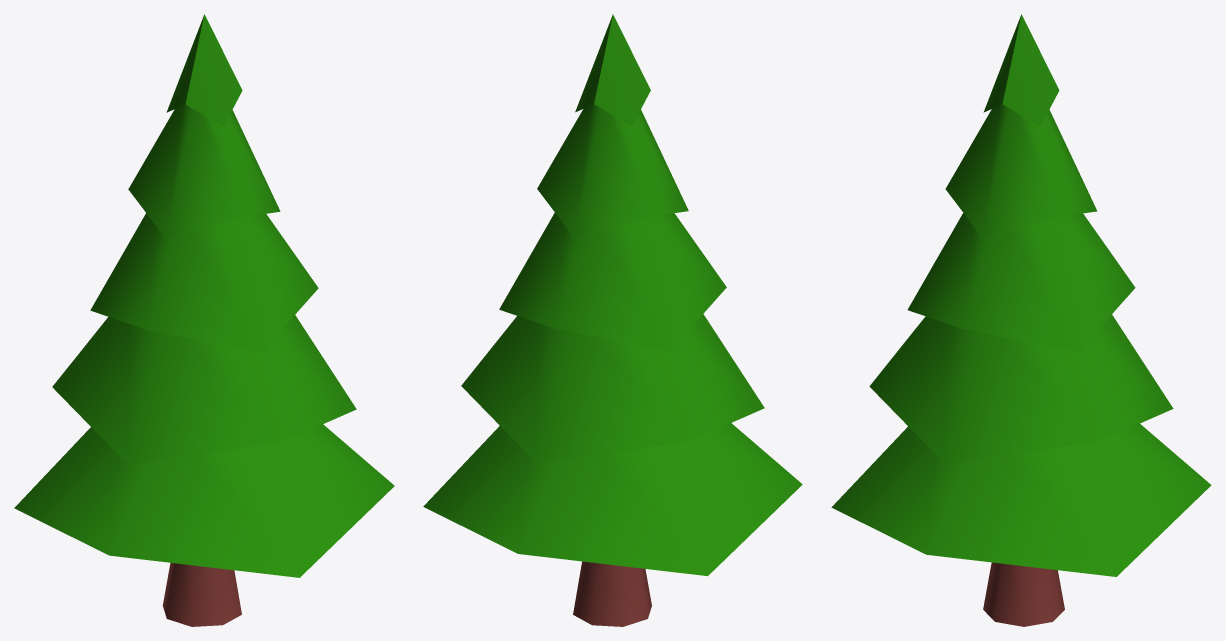
File: Boom2.fbx
3 renders of one model, left to right at view 1: azimuth 30°, elevation 25°; view 2: azimuth 150°, elevation 25°; view 3: azimuth 270°, elevation 25°, orthographic.
Visible parts, largest first — view 1: Tree 1; view 2: Tree 1; view 3: Tree 1.
Part boxes in pixels (x1,y1,x2,y2): Tree 1: [14, 14, 394, 626]; Tree 1: [423, 14, 802, 626]; Tree 1: [831, 14, 1211, 626].
Size of the model in its own units: 221 by 441 by 255.
